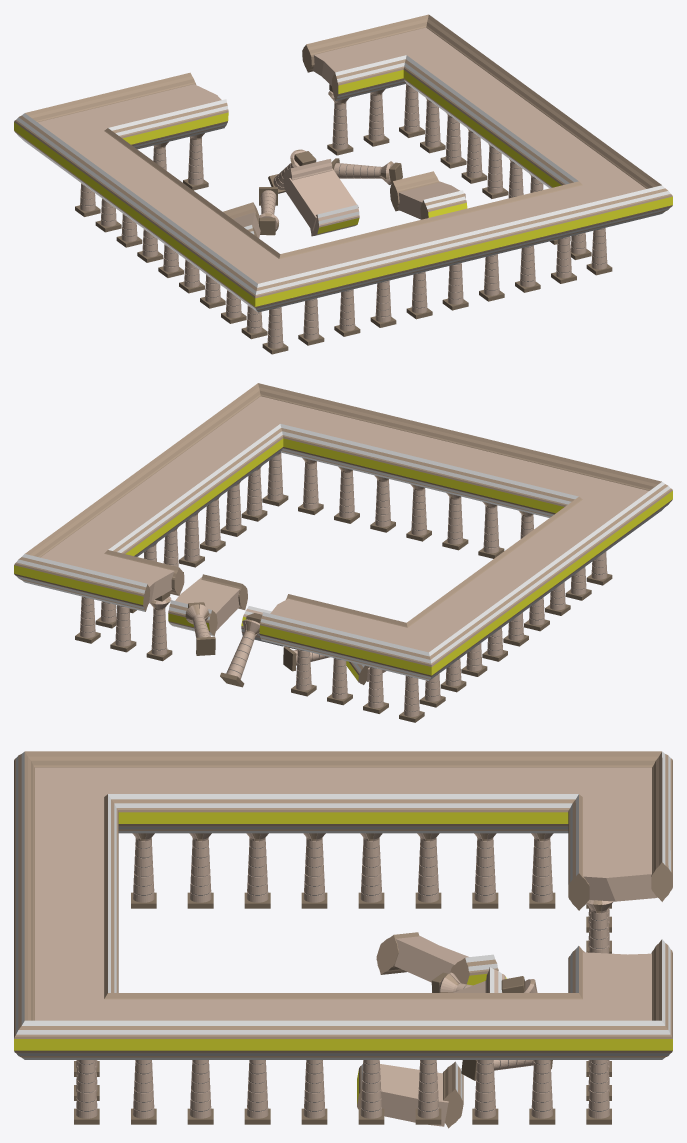
Rendered from cloister.fbx.
3 renders of one model, top to bottom at view 1: azimuth 30°, elevation 25°; view 2: azimuth 150°, elevation 25°; view 3: azimuth 270°, elevation 25°, orthographic. The views are drawn at different scales.
Visible parts, largest first — view 1: cloister_roof_cornices, cloister_roof, cloister_roof.001, cloister_roof_cornices_frag2, cloister_pillar.004, cloister_pillar.003, cloister_pillar.002, cloister_pillar.006, cloister_pillar.007, cloister_pillar.023, cloister_pillar.024, cloister_pillar.021 (+22 smaller); view 2: cloister_roof_cornices, cloister_roof, cloister_roof_cornices_frag2, cloister_fallen_pillar, cloister_pillar.003, cloister_pillar.004, cloister_pillar.013, cloister_pillar, cloister_pillar.014, cloister_pillar.016, cloister_pillar.015, cloister_pillar.012 (+20 smaller); view 3: cloister_roof_cornices, cloister_roof, cloister_roof_cornices_frag1, cloister_roof_cornices_frag2, cloister_pillar.027, cloister_pillar.033, cloister_pillar.028, cloister_pillar.029, cloister_pillar.032, cloister_pillar.030, cloister_pillar.031, cloister_pillar.034 (+13 smaller).
Boxes of the visible parts, x1,y1,x2,y2 form: cloister_roof_cornices: (14, 14, 672, 312); cloister_roof: (38, 27, 646, 283); cloister_roof.001: (283, 159, 359, 236); cloister_roof_cornices_frag2: (390, 171, 467, 219); cloister_pillar.004: (331, 158, 402, 184); cloister_pillar.003: (327, 84, 353, 155); cloister_pillar.002: (363, 89, 389, 146); cloister_pillar.006: (258, 187, 278, 235); cloister_pillar.007: (183, 133, 208, 190); cloister_pillar.023: (440, 113, 466, 168); cloister_pillar.024: (420, 98, 445, 153); cloister_pillar.021: (482, 144, 508, 198); cloister_roof_cornices: (14, 383, 672, 680); cloister_roof: (40, 396, 648, 652); cloister_roof_cornices_frag2: (168, 574, 247, 636); cloister_fallen_pillar: (220, 619, 259, 687); cloister_pillar.003: (146, 591, 172, 661); cloister_pillar.004: (185, 602, 215, 655); cloister_pillar.013: (442, 493, 468, 550); cloister_pillar: (298, 457, 323, 514); cloister_pillar.014: (406, 484, 431, 541); cloister_pillar.016: (334, 466, 359, 523); cloister_pillar.015: (370, 475, 395, 532); cloister_pillar.012: (478, 501, 504, 558); cloister_roof_cornices: (14, 751, 672, 1059); cloister_roof: (35, 767, 657, 1020); cloister_roof_cornices_frag1: (376, 932, 498, 985); cloister_roof_cornices_frag2: (357, 1061, 463, 1128); cloister_pillar.027: (529, 833, 555, 908); cloister_pillar.033: (187, 833, 213, 908); cloister_pillar.028: (472, 833, 498, 908); cloister_pillar.029: (415, 833, 441, 908); cloister_pillar.032: (244, 833, 270, 908); cloister_pillar.030: (358, 833, 384, 908); cloister_pillar.031: (301, 833, 327, 908); cloister_pillar.034: (131, 833, 156, 908).
Size of the model in its own units: 484 by 126 by 484.
